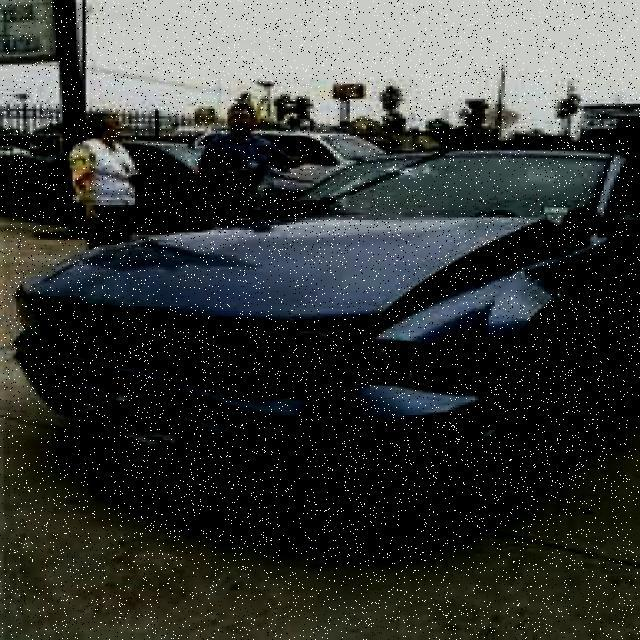car damage: (20, 221, 595, 484)
